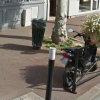Motorcycle: (60, 31, 100, 93)
